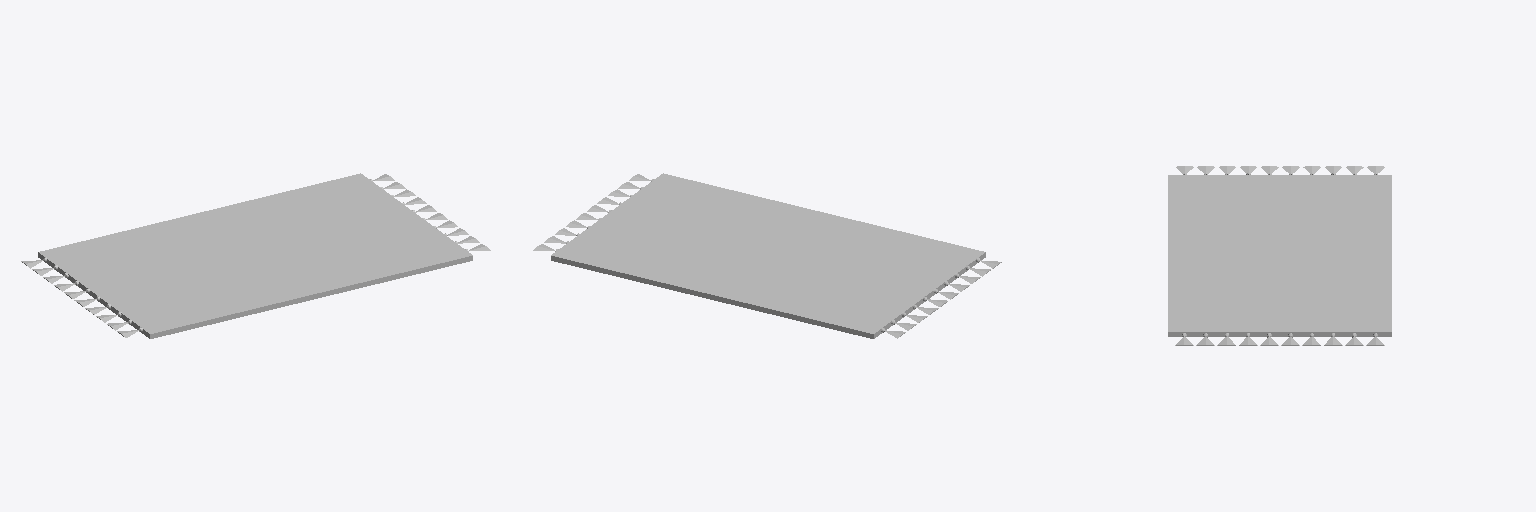
The model's file is alfombra.obj.
3 renders of one model, left to right at view 1: azimuth 30°, elevation 25°; view 2: azimuth 150°, elevation 25°; view 3: azimuth 270°, elevation 25°, orthographic.
Parts seen in each view (by area): view 1: Alfombra_Cubo, Cuerpo_de_fleco.001_Esfera.002, Cuerpo_de_fleco_Esfera.001; view 2: Alfombra_Cubo, Cuerpo_de_fleco.001_Esfera.002, Cuerpo_de_fleco_Esfera.001; view 3: Alfombra_Cubo, Cuerpo_de_fleco_Esfera.001, Cuerpo_de_fleco.001_Esfera.002.
Boxes of the visible parts, x1,y1,x2,y2 form: Alfombra_Cubo: [38, 173, 472, 338]; Cuerpo_de_fleco.001_Esfera.002: [21, 257, 142, 337]; Cuerpo_de_fleco_Esfera.001: [370, 174, 490, 251]; Alfombra_Cubo: [551, 173, 985, 338]; Cuerpo_de_fleco.001_Esfera.002: [881, 258, 1001, 338]; Cuerpo_de_fleco_Esfera.001: [533, 174, 653, 251]; Alfombra_Cubo: [1168, 175, 1391, 336]; Cuerpo_de_fleco_Esfera.001: [1175, 333, 1384, 345]; Cuerpo_de_fleco.001_Esfera.002: [1176, 166, 1384, 174].
Size of the model in its own units: 6.21 by 0.093 by 3.31.